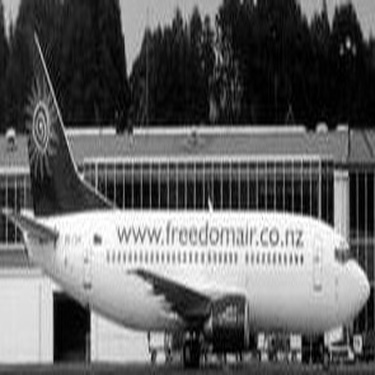airplane: (7, 21, 371, 371)
